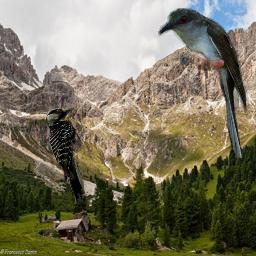Cuckoo: (158, 8, 250, 158)
Woodpecker: (45, 107, 93, 205)
